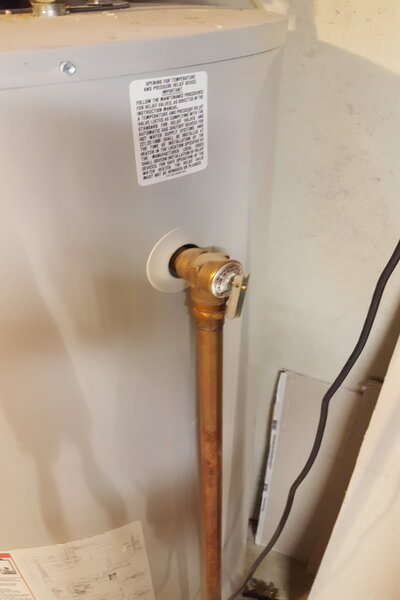valve: (168, 242, 250, 353)
